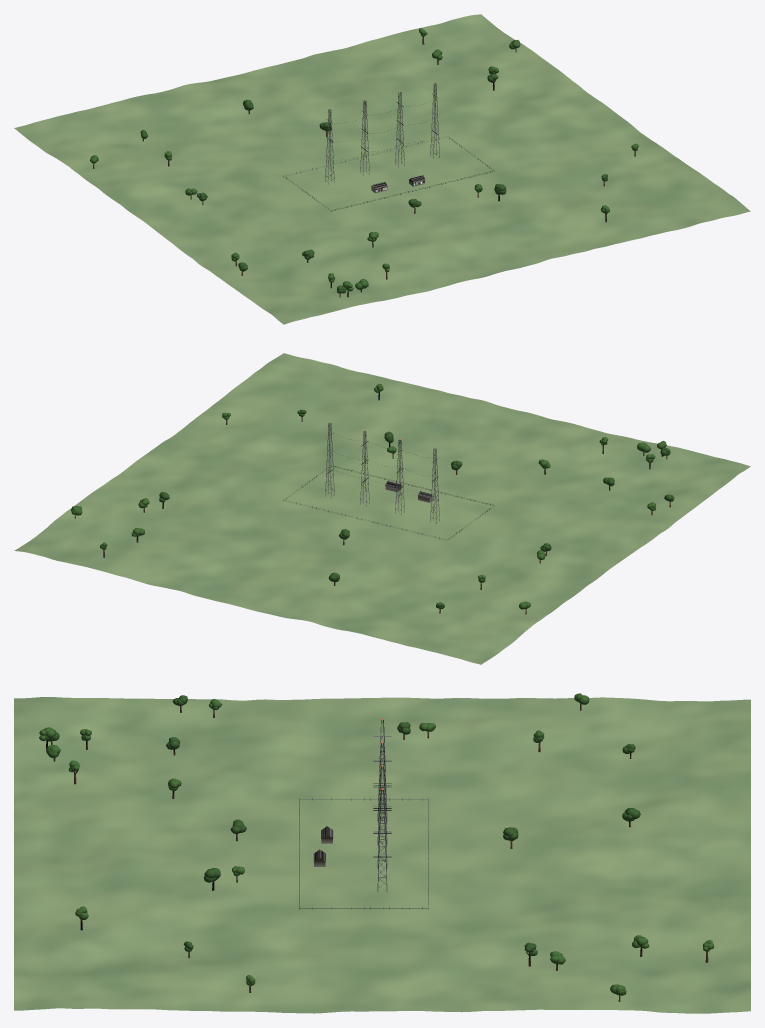
Rendered from radar.glb.
The picture shows the model from 3 angles, top to bottom: view 1: azimuth 30°, elevation 25°; view 2: azimuth 150°, elevation 25°; view 3: azimuth 270°, elevation 25°; orthographic projection. The views are drawn at different scales.
Parts seen in each view (by area): view 1: radar.terrain.0, radar.metal.1, radar.leaf.22, radar.leaf.21; view 2: radar.terrain.0, radar.metal.1, radar.leaf.22, radar.leaf.21; view 3: radar.terrain.0, radar.leaf.22, radar.leaf.21, radar.metal.1, radar.bark.20.
Part boxes in pixels (box(x1,y1,x2,y2)): radar.terrain.0: box(14, 14, 750, 324); radar.metal.1: box(325, 83, 439, 184); radar.leaf.22: box(90, 28, 638, 291); radar.leaf.21: box(140, 73, 607, 293); radar.terrain.0: box(14, 353, 750, 664); radar.metal.1: box(325, 422, 439, 523); radar.leaf.22: box(71, 384, 666, 609); radar.leaf.21: box(159, 409, 674, 608); radar.terrain.0: box(14, 697, 750, 1013); radar.leaf.22: box(39, 693, 714, 995); radar.leaf.21: box(48, 695, 640, 955); radar.metal.1: box(373, 719, 391, 891); radar.bark.20: box(46, 704, 708, 1001).
Bounding box in the file's own units: 400 × 62.42 × 400.
